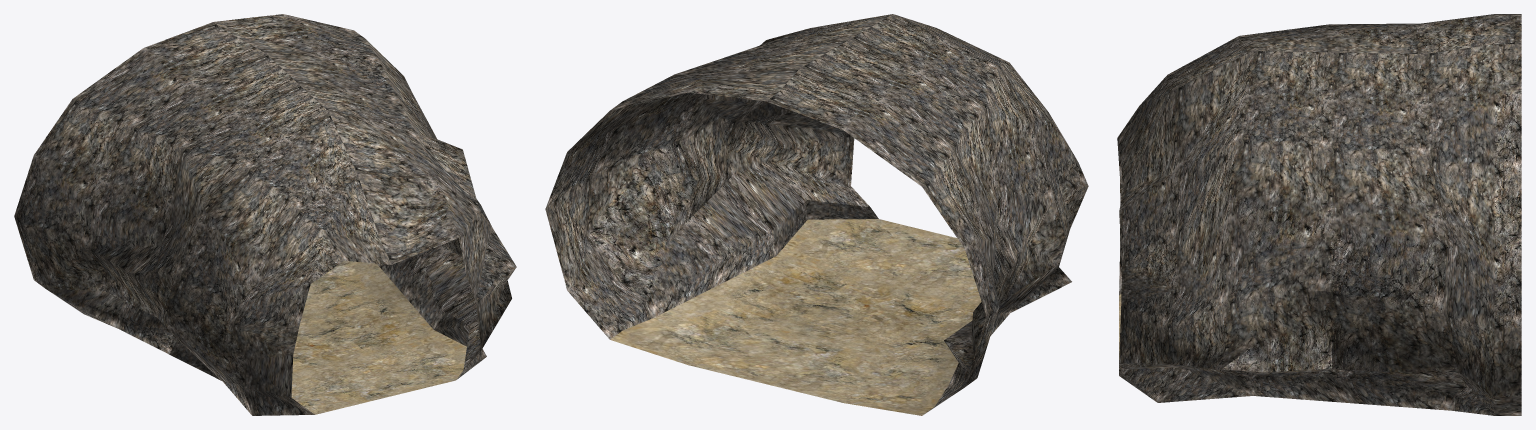
File: pir_m_are_cav_hallWide75_entrance.fbx
3 views of the same model, side by side, from view 1: azimuth 30°, elevation 25°; view 2: azimuth 150°, elevation 25°; view 3: azimuth 270°, elevation 25° (orthographic). The views are drawn at different scales.
Visible parts, largest first — view 1: entranceWide75_wall, entranceWide75_floor; view 2: entranceWide75_wall, entranceWide75_floor; view 3: entranceWide75_wall.
Part boxes in pixels (x1,y1,x2,y2): entranceWide75_wall: [14, 14, 516, 415]; entranceWide75_floor: [291, 260, 466, 414]; entranceWide75_wall: [545, 14, 1088, 414]; entranceWide75_floor: [610, 219, 981, 415]; entranceWide75_wall: [1117, 14, 1521, 415].
Size of the model in its own units: 10000 by 6125 by 7533.
Materials: 2 (2 with a texture image).
